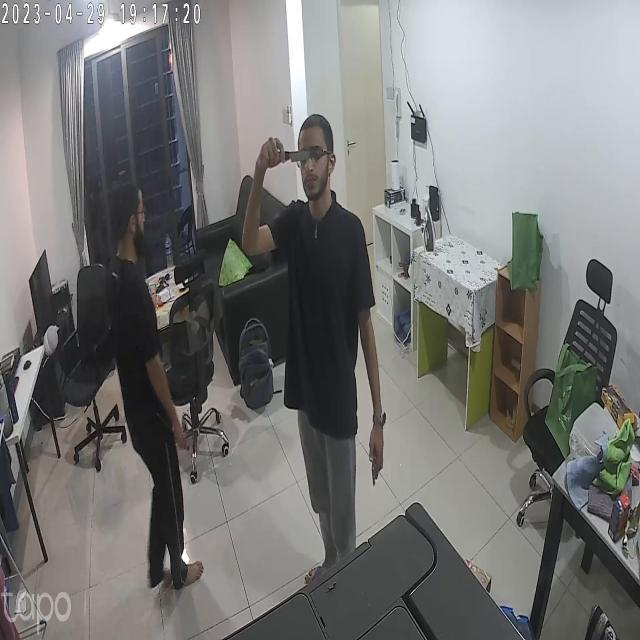Knife: (276, 140, 324, 178)
